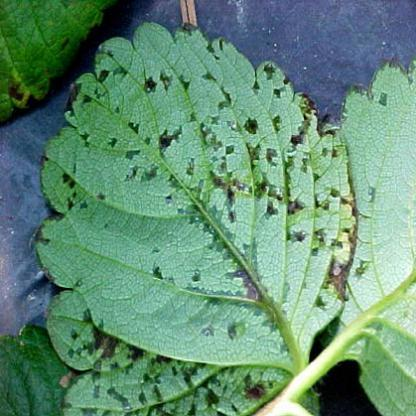Strawberry_Angular_LeafSpot: (28, 21, 361, 415), (317, 54, 415, 416)
